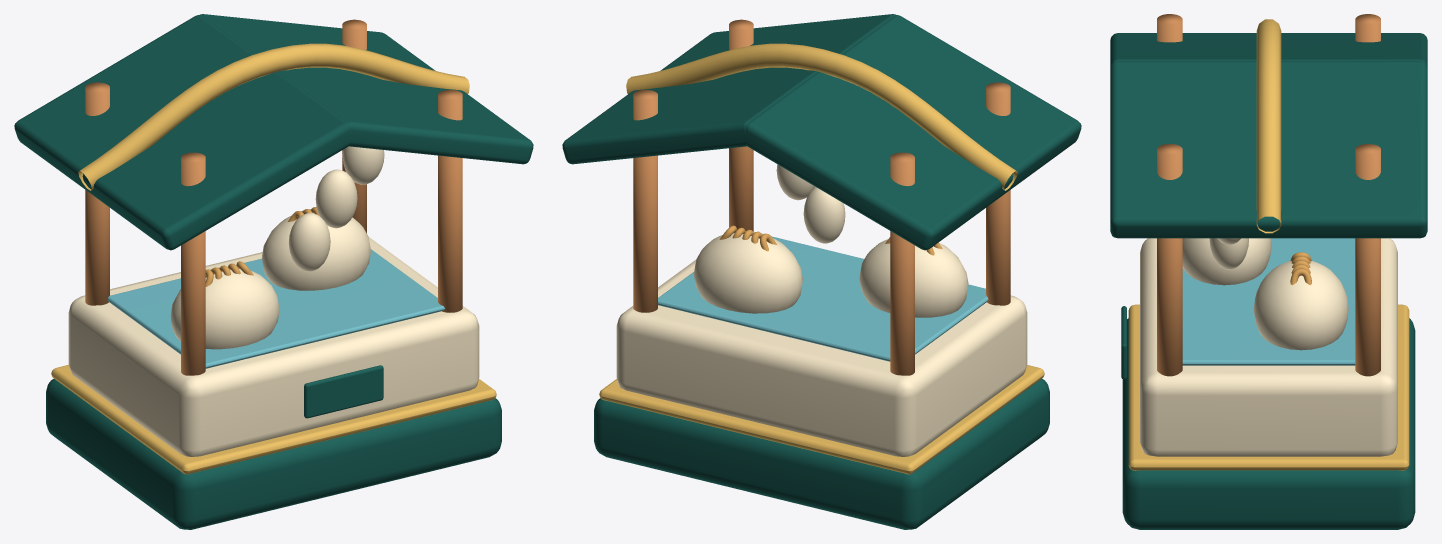
The picture shows the model from 3 angles, left to right: view 1: azimuth 30°, elevation 25°; view 2: azimuth 150°, elevation 25°; view 3: azimuth 270°, elevation 25°; orthographic projection. The views are drawn at different scales.
Parts seen in each view (by area): view 1: Jade footing, Bath surround, Brass welt, Timber post, Warm bath, Porcelain vapour, Porcelain vapour.001, Porcelain vapour.002, Pastry fold; view 2: Jade footing, Bath surround, Brass welt, Timber post, Warm bath, Porcelain vapour, Porcelain vapour.001, Pastry fold; view 3: Jade footing, Bath surround, Brass welt, Warm bath, Timber post, Porcelain vapour, Pastry fold.
Boxes of the visible parts, left/top/right/bottom form: Jade footing: left=14, top=14, right=533, bottom=529; Bath surround: left=68, top=209, right=479, bottom=456; Brass welt: left=51, top=43, right=496, bottom=474; Timber post: left=85, top=19, right=462, bottom=375; Warm bath: left=107, top=249, right=444, bottom=368; Porcelain vapour: left=288, top=213, right=330, bottom=271; Porcelain vapour.001: left=315, top=169, right=357, bottom=228; Porcelain vapour.002: left=342, top=146, right=384, bottom=184; Pastry fold: left=205, top=207, right=318, bottom=286; Jade footing: left=562, top=14, right=1081, bottom=529; Bath surround: left=616, top=231, right=1027, bottom=456; Brass welt: left=599, top=43, right=1044, bottom=474; Timber post: left=633, top=19, right=1010, bottom=375; Warm bath: left=658, top=236, right=988, bottom=361; Porcelain vapour: left=803, top=187, right=845, bottom=243; Porcelain vapour.001: left=776, top=164, right=815, bottom=200; Pastry fold: left=719, top=225, right=942, bottom=255; Jade footing: left=1110, top=33, right=1427, bottom=529; Bath surround: left=1140, top=238, right=1397, bottom=456; Brass welt: left=1128, top=19, right=1409, bottom=470; Warm bath: left=1182, top=238, right=1355, bottom=365; Timber post: left=1157, top=14, right=1380, bottom=376; Porcelain vapour: left=1209, top=238, right=1248, bottom=269; Pastry fold: left=1290, top=252, right=1311, bottom=285.
Bounding box in the file's own units: 0.9282 × 0.9138 × 0.64.
